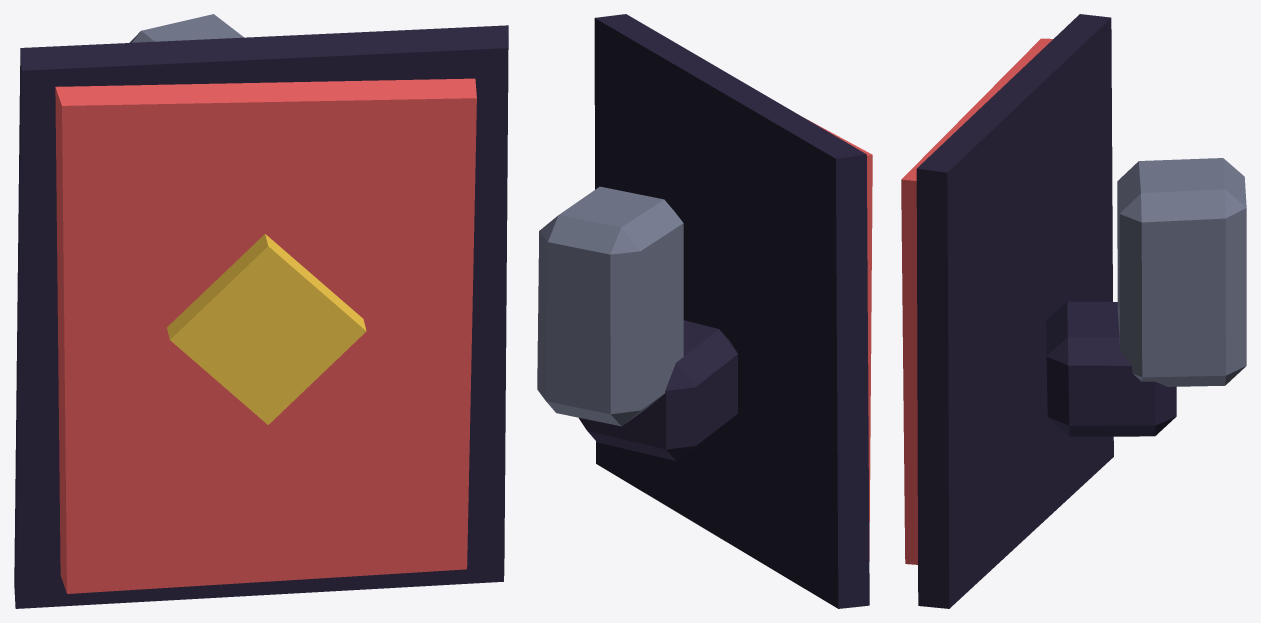
Rendered from guard_arm_shield.fbx.
The picture shows the model from 3 angles, left to right: view 1: azimuth 30°, elevation 25°; view 2: azimuth 150°, elevation 25°; view 3: azimuth 270°, elevation 25°; orthographic projection. The views are drawn at different scales.
Visible parts, largest first — view 1: guard_arm_shield; view 2: guard_arm_shield; view 3: guard_arm_shield.
Boxes of the visible parts, x1=… form: guard_arm_shield: x1=14, y1=14, x2=508, y2=608; guard_arm_shield: x1=537, y1=14, x2=872, y2=608; guard_arm_shield: x1=901, y1=14, x2=1246, y2=608.
Bounding box in the file's own units: 0.5436 × 0.6861 × 0.4813.
